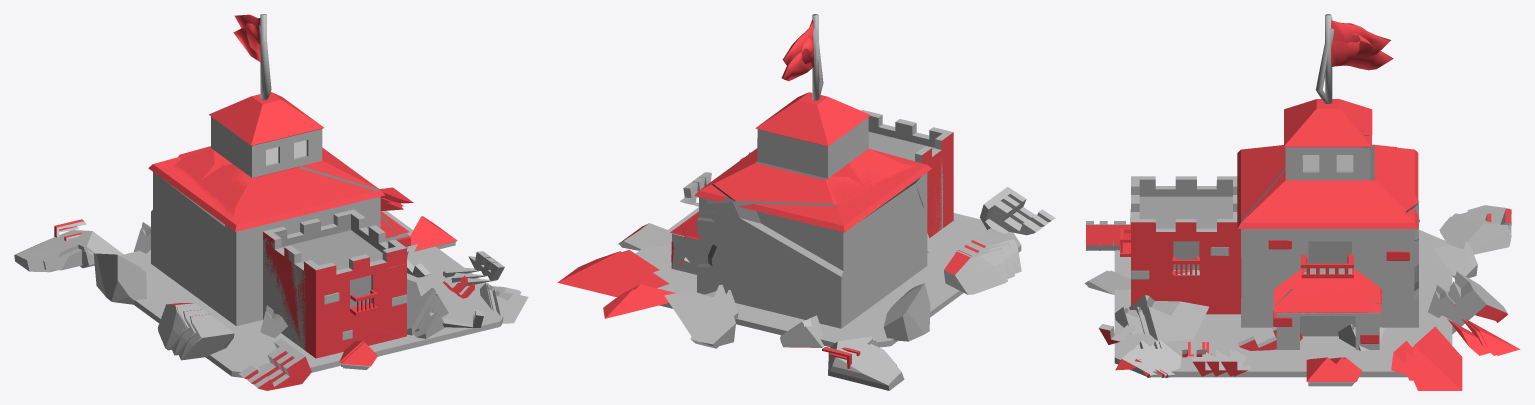
File: level2redcasteles.fbx
3 views of the same model, side by side, from view 1: azimuth 30°, elevation 25°; view 2: azimuth 150°, elevation 25°; view 3: azimuth 270°, elevation 25° (orthographic). The views are drawn at different scales.
Parts seen in each view (by area): view 1: castlelevel2red, castlelevel2red50destroyed, castlelevel2red25destroyed, redbasecastelevel2, redbasecastelevel225destroyed, castlelevel2red100destroyed, castlelevel2blue.005_cell.079, castlelevel2blue.005_cell.100, castlelevel2blue.005_cell.050, castlelevel2blue.005_cell.087, redbasecastelevel250destroyed, castlelevel2blue.005_cell.048 (+10 smaller); view 2: castlelevel2red25destroyed, castlelevel2red75destroyed, castlelevel2red, redbasecastelevel275destroyed, redbasecastelevel2, castlelevel2red50destroyed, castlelevel2red100destroyed, castlelevel2blue.005_cell.085, castlelevel2blue.005_cell.079, castlelevel2blue.005_cell.082, castlelevel2blue.005_cell.069, redbasecastelevel225destroyed (+10 smaller); view 3: castlelevel2red, castlelevel2red50destroyed, redbasecastelevel2, castlelevel2red25destroyed, redbasecastelevel225destroyed, castlelevel2red75destroyed, castlelevel2blue.005_cell.079, castlelevel2blue.005_cell.082, redbasecastelevel250destroyed, castlelevel2blue.005_cell.087, redbasecastelevel275destroyed, castlelevel2blue.005_cell.085 (+19 smaller).
Boxes of the visible parts, x1=… form: castlelevel2red: x1=148, y1=14, x2=410, y2=358; castlelevel2red50destroyed: x1=174, y1=148, x2=406, y2=350; castlelevel2red25destroyed: x1=149, y1=23, x2=409, y2=357; redbasecastelevel2: x1=120, y1=210, x2=459, y2=371; redbasecastelevel225destroyed: x1=120, y1=211, x2=503, y2=366; castlelevel2red100destroyed: x1=151, y1=223, x2=231, y2=317; castlelevel2blue.005_cell.079: x1=14, y1=219, x2=123, y2=272; castlelevel2blue.005_cell.100: x1=93, y1=253, x2=146, y2=304; castlelevel2blue.005_cell.050: x1=179, y1=314, x2=234, y2=360; castlelevel2blue.005_cell.087: x1=407, y1=279, x2=448, y2=335; redbasecastelevel250destroyed: x1=138, y1=303, x2=503, y2=377; castlelevel2blue.005_cell.048: x1=254, y1=350, x2=311, y2=390; castlelevel2red25destroyed: x1=671, y1=28, x2=953, y2=307; castlelevel2red75destroyed: x1=697, y1=161, x2=924, y2=328; castlelevel2red: x1=670, y1=14, x2=953, y2=300; redbasecastelevel275destroyed: x1=659, y1=208, x2=1020, y2=347; redbasecastelevel2: x1=649, y1=208, x2=1020, y2=342; castlelevel2red50destroyed: x1=677, y1=119, x2=942, y2=265; castlelevel2red100destroyed: x1=841, y1=227, x2=924, y2=327; castlelevel2blue.005_cell.085: x1=664, y1=284, x2=735, y2=348; castlelevel2blue.005_cell.079: x1=822, y1=336, x2=904, y2=390; castlelevel2blue.005_cell.082: x1=557, y1=251, x2=669, y2=297; castlelevel2blue.005_cell.069: x1=944, y1=250, x2=1005, y2=294; redbasecastelevel225destroyed: x1=635, y1=209, x2=1021, y2=344; castlelevel2red: x1=1120, y1=14, x2=1417, y2=349; castlelevel2red50destroyed: x1=1131, y1=147, x2=1404, y2=349; redbasecastelevel2: x1=1115, y1=230, x2=1451, y2=377; castlelevel2red25destroyed: x1=1139, y1=28, x2=1418, y2=349; redbasecastelevel225destroyed: x1=1114, y1=230, x2=1450, y2=377; castlelevel2red75destroyed: x1=1246, y1=144, x2=1418, y2=327; castlelevel2blue.005_cell.079: x1=1440, y1=205, x2=1511, y2=254; castlelevel2blue.005_cell.082: x1=1410, y1=326, x2=1462, y2=390; redbasecastelevel250destroyed: x1=1114, y1=233, x2=1450, y2=377; castlelevel2blue.005_cell.087: x1=1129, y1=295, x2=1208, y2=341; redbasecastelevel275destroyed: x1=1116, y1=230, x2=1452, y2=377; castlelevel2blue.005_cell.085: x1=1442, y1=271, x2=1508, y2=334.
Bounding box in the file's own units: 613 × 459 × 628.
